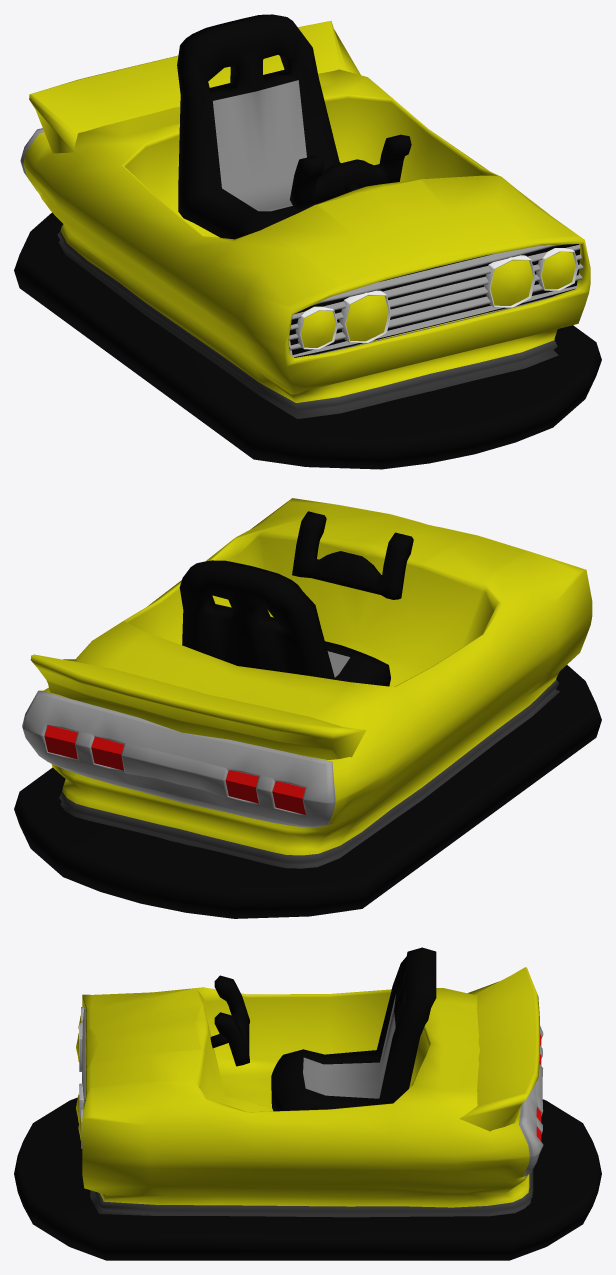
The model's file is Car.fbx.
3 views of the same model, one above another, from view 1: azimuth 30°, elevation 25°; view 2: azimuth 150°, elevation 25°; view 3: azimuth 270°, elevation 25° (orthographic). The views are drawn at different scales.
Visible parts, largest first — view 1: Car_Body, Rub, Car_Seat, Car_HeadDetail, Car_HeadLight2, Car_Stering, Car_HeadDetail2, Car_HeadLight; view 2: Car_Body, Rub, Car_BackDetail, Car_Seat, Car_Stering, Car_RearLight; view 3: Car_Body, Rub, Car_Seat, Car_Stering, Car_BackDetail, Car_HeadLight.
Part boxes in pixels (x1,y1,x2,y2): Car_Body: [23, 20, 590, 418]; Rub: [14, 212, 601, 469]; Car_Seat: [177, 14, 340, 239]; Car_HeadDetail: [288, 244, 583, 357]; Car_HeadLight2: [301, 252, 575, 347]; Car_Stering: [290, 134, 411, 209]; Car_HeadDetail2: [289, 244, 579, 357]; Car_HeadLight: [295, 248, 578, 349]; Car_Body: [30, 498, 592, 868]; Rub: [14, 665, 601, 918]; Car_BackDetail: [22, 690, 335, 827]; Car_Seat: [179, 560, 390, 686]; Car_Stering: [292, 511, 413, 599]; Car_RearLight: [44, 725, 305, 814]; Car_Body: [82, 967, 539, 1217]; Rub: [14, 1097, 601, 1260]; Car_Seat: [271, 947, 436, 1111]; Car_Stering: [210, 975, 249, 1066]; Car_BackDetail: [518, 1025, 543, 1176]; Car_HeadLight: [79, 1007, 84, 1148].
Bounding box in the file's own units: 321 × 230 × 542.
